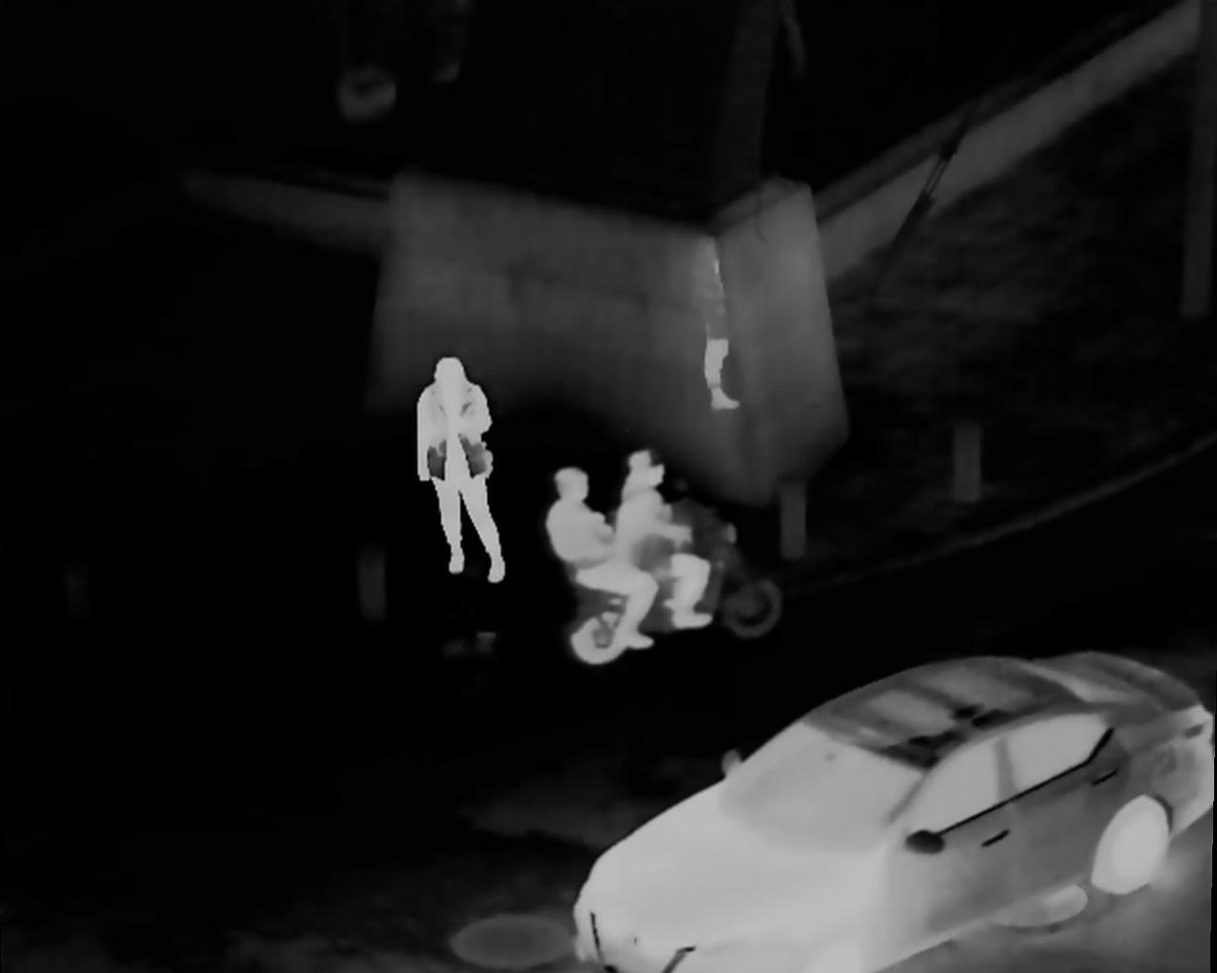person: (417, 355, 512, 590), (551, 465, 652, 658), (610, 443, 709, 631)
